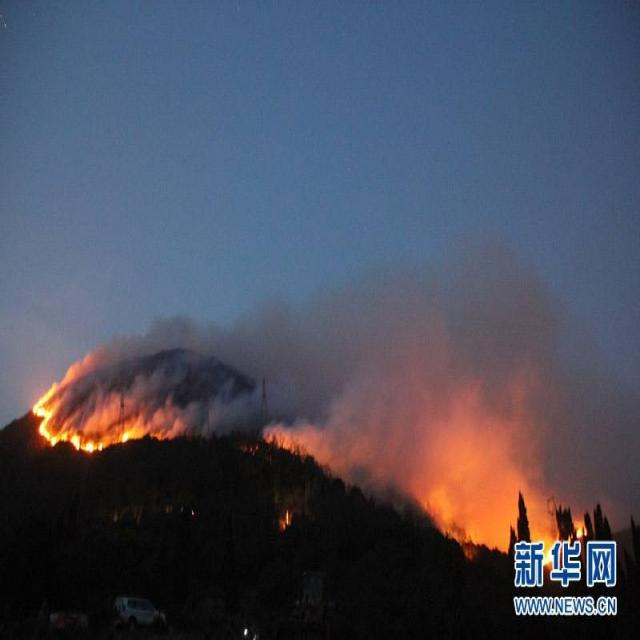fire: (418, 473, 584, 564), (33, 363, 178, 456), (264, 424, 326, 463)
